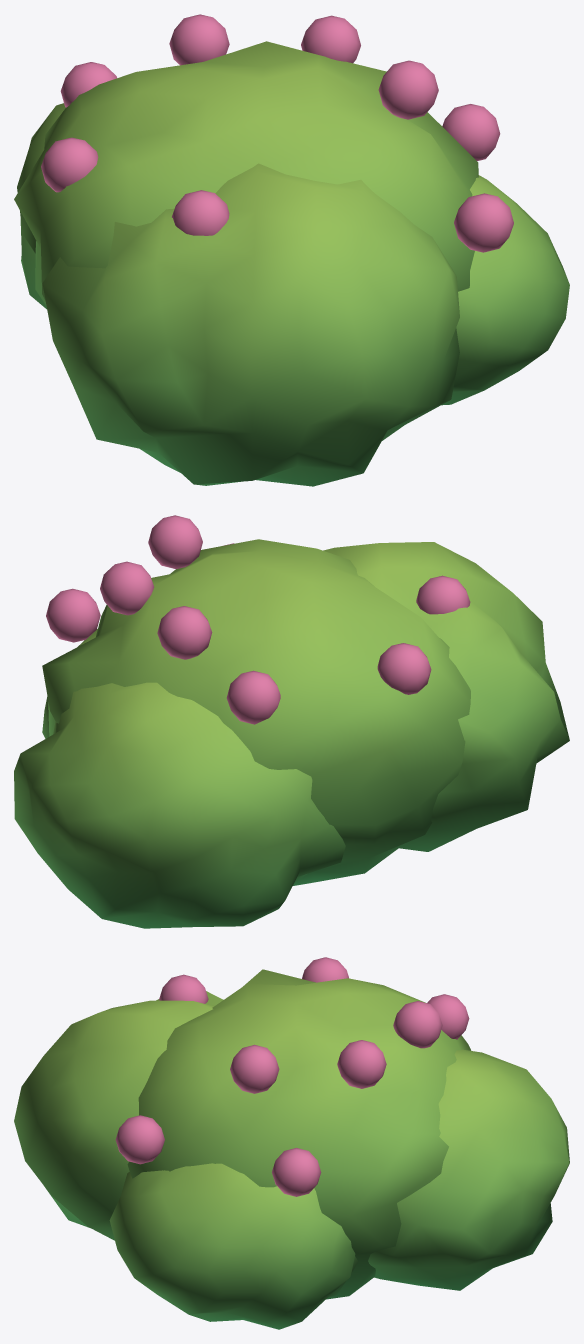
File: bush_flower_pink.glb
The picture shows the model from 3 angles, top to bottom: view 1: azimuth 30°, elevation 25°; view 2: azimuth 150°, elevation 25°; view 3: azimuth 270°, elevation 25°; orthographic projection. The views are drawn at different scales.
Visible parts, largest first — view 1: bush_flower_pink; view 2: bush_flower_pink; view 3: bush_flower_pink.
Boxes of the visible parts, x1=… form: bush_flower_pink: x1=14, y1=14, x2=569, y2=486; bush_flower_pink: x1=14, y1=515, x2=569, y2=928; bush_flower_pink: x1=14, y1=957, x2=569, y2=1329.
Bounding box in the file's own units: 1.22 × 0.8131 × 1.46.
